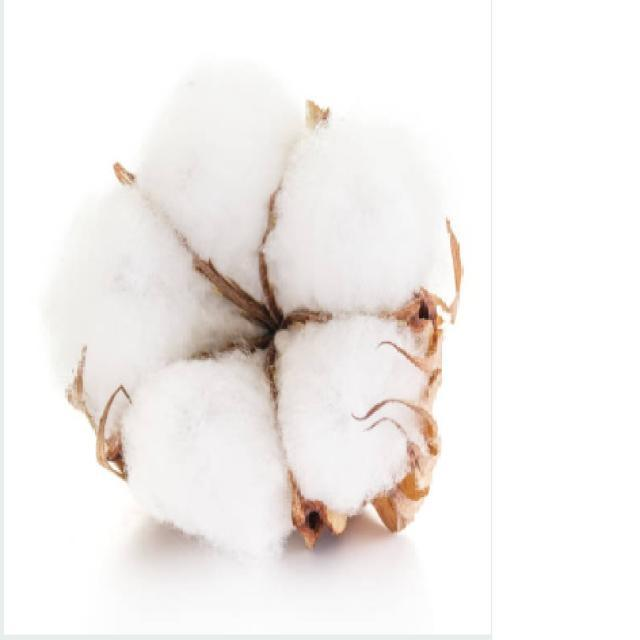Matured Cotton Boll: (45, 55, 491, 579)
